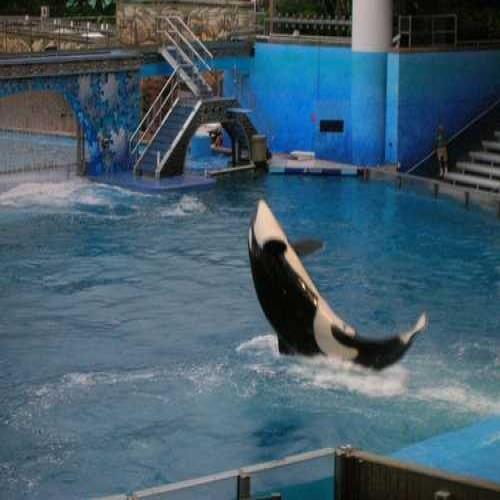killer_whale-endangered: (230, 179, 434, 379)
